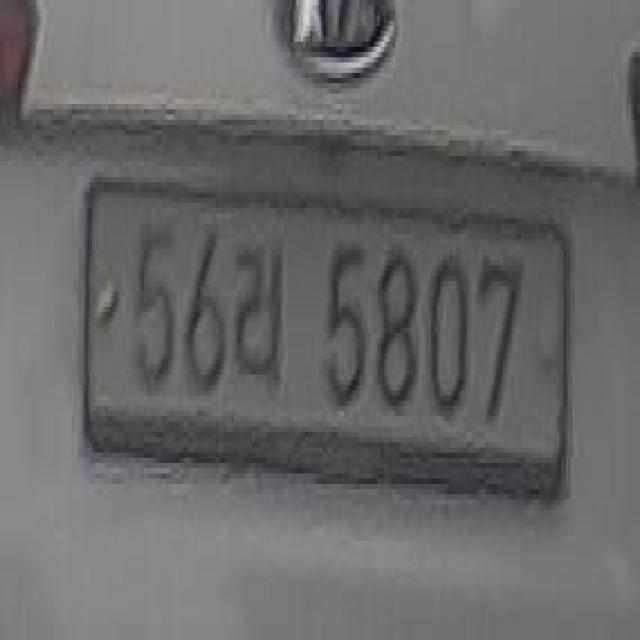illegal_plate: (81, 163, 574, 520)
